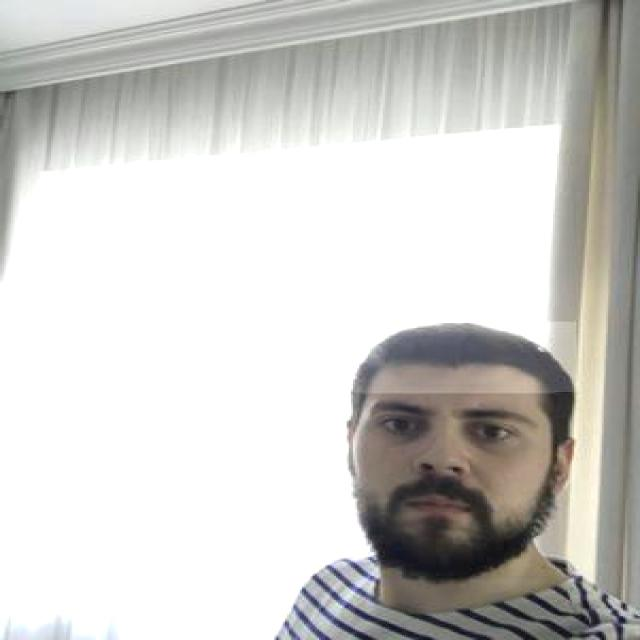face_nomask: (355, 392, 557, 581)
head_nohelmet: (334, 322, 576, 394)
